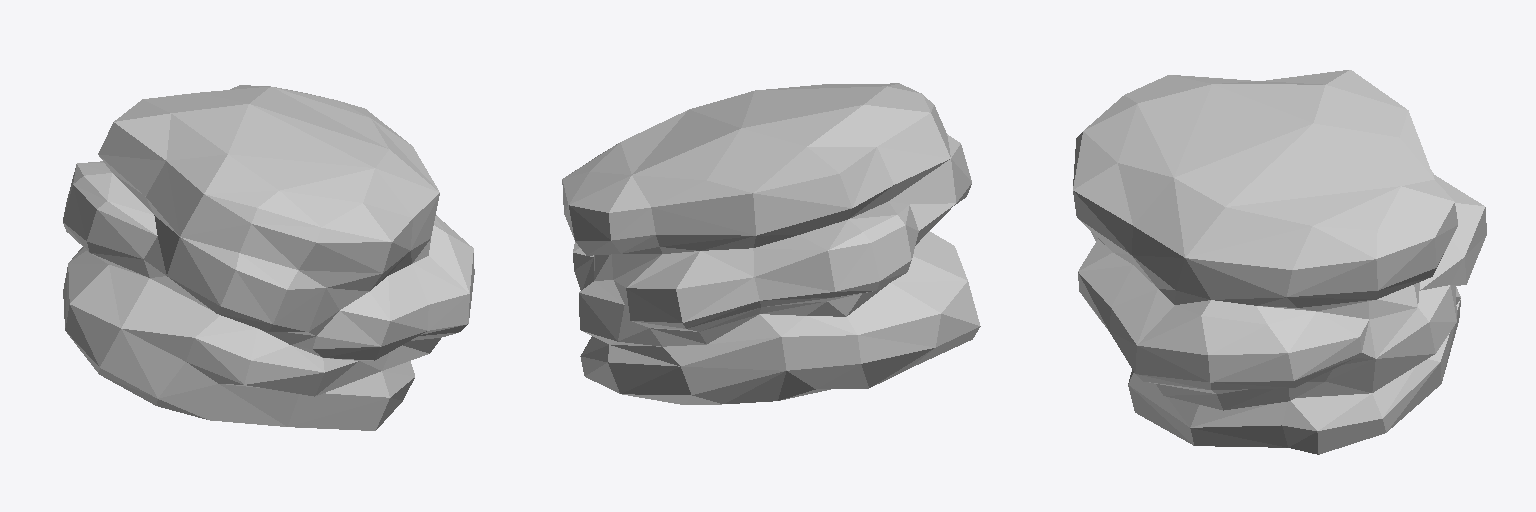
The model's file is rocks6.obj.
3 renders of one model, left to right at view 1: azimuth 30°, elevation 25°; view 2: azimuth 150°, elevation 25°; view 3: azimuth 270°, elevation 25°, orthographic.
Parts seen in each view (by area): view 1: (null)_sep7; view 2: (null)_sep7; view 3: (null)_sep7.
Boxes of the visible parts, x1=… form: (null)_sep7: x1=63, y1=85, x2=474, y2=430; (null)_sep7: x1=562, y1=83, x2=980, y2=404; (null)_sep7: x1=1073, y1=70, x2=1486, y2=454.
Bounding box in the file's own units: 45.96 × 33.73 × 44.71.